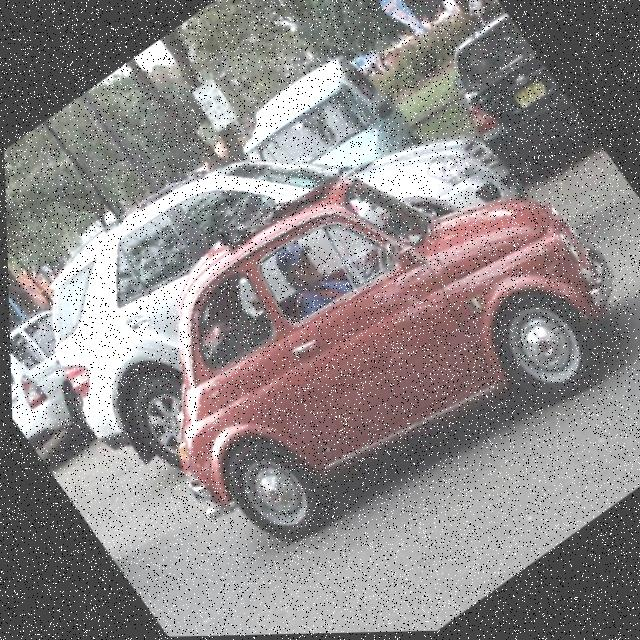license_plate: (511, 78, 549, 112)
